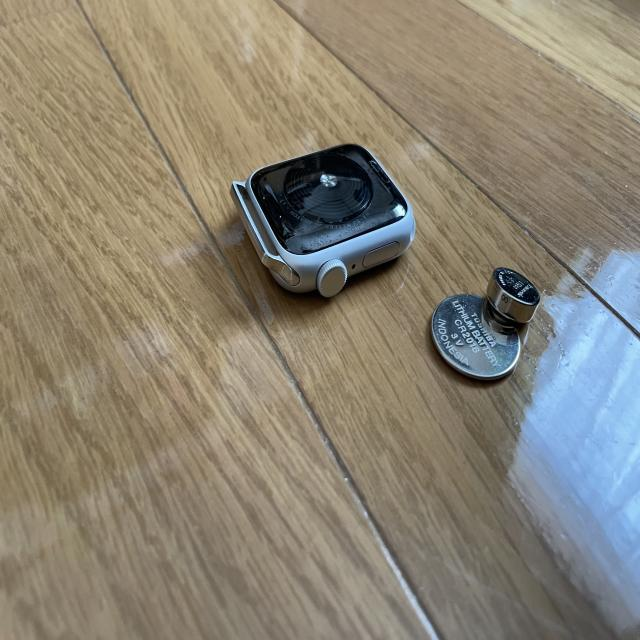COIN: (428, 294, 521, 384), (487, 265, 540, 328)
